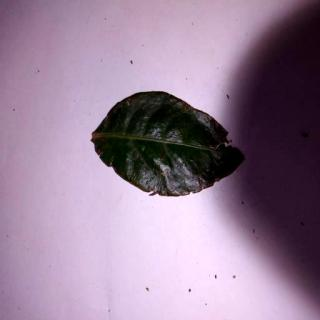Bird Eye Spot: (93, 91, 246, 199)
